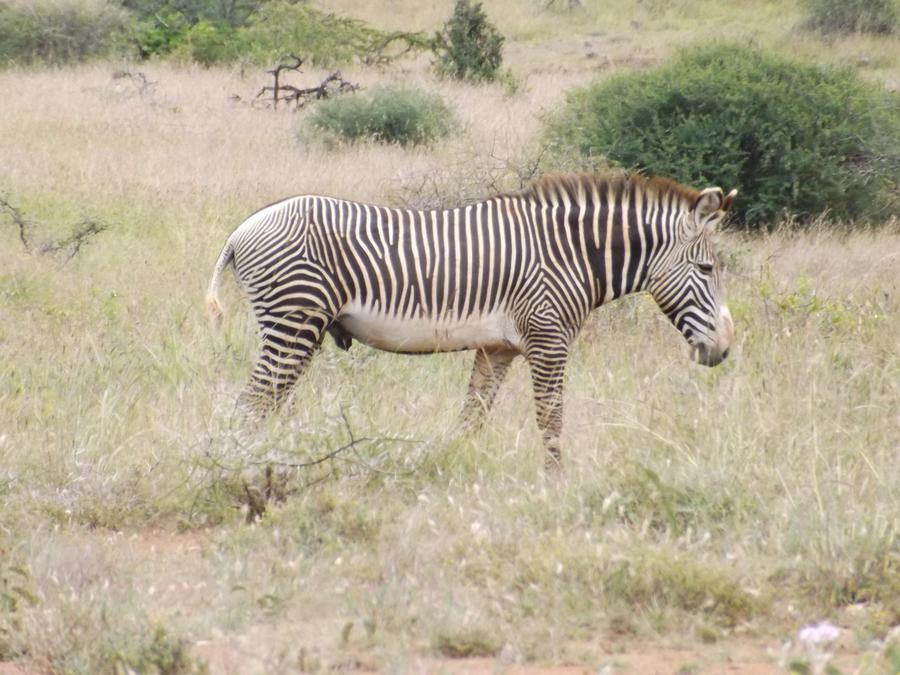zebra_grevys: (242, 201, 573, 351)
